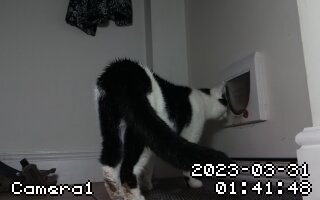bad: (93, 58, 241, 195)
